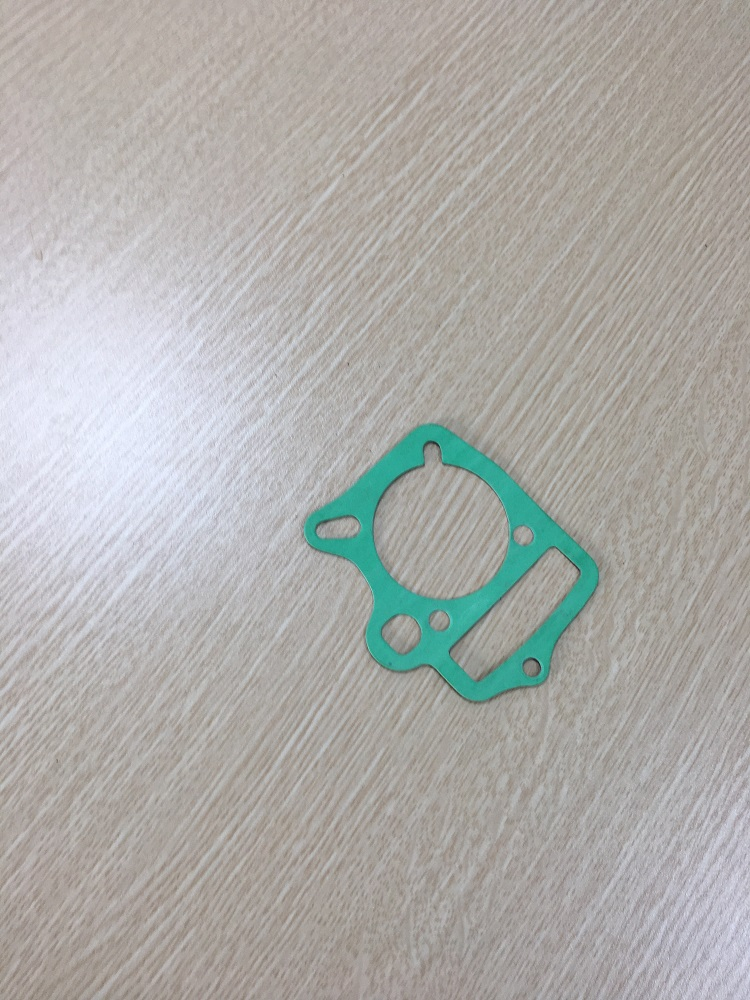circle 1: (359, 424, 515, 615)
circle 2: (365, 606, 433, 662)
circle 3: (300, 498, 367, 560)
circle 4: (504, 515, 541, 553)
circle 5: (513, 650, 550, 687)
circle 6: (436, 536, 591, 689)
object: (265, 378, 644, 756)
